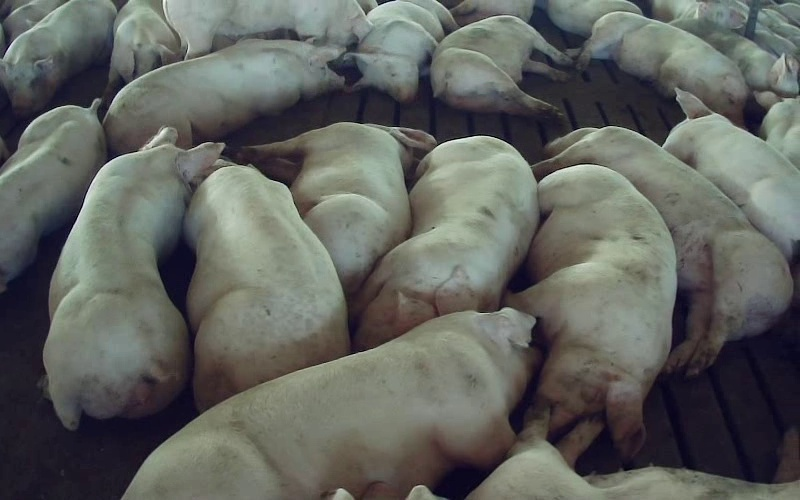pig: (124, 264, 538, 499), (533, 127, 792, 376), (43, 127, 221, 428), (506, 165, 676, 459), (184, 165, 349, 410), (354, 136, 538, 346), (238, 122, 435, 297), (467, 407, 799, 499), (103, 39, 343, 154), (663, 88, 799, 261), (0, 99, 104, 292), (577, 12, 747, 125), (431, 15, 571, 118), (163, 0, 370, 58), (669, 18, 799, 96)
